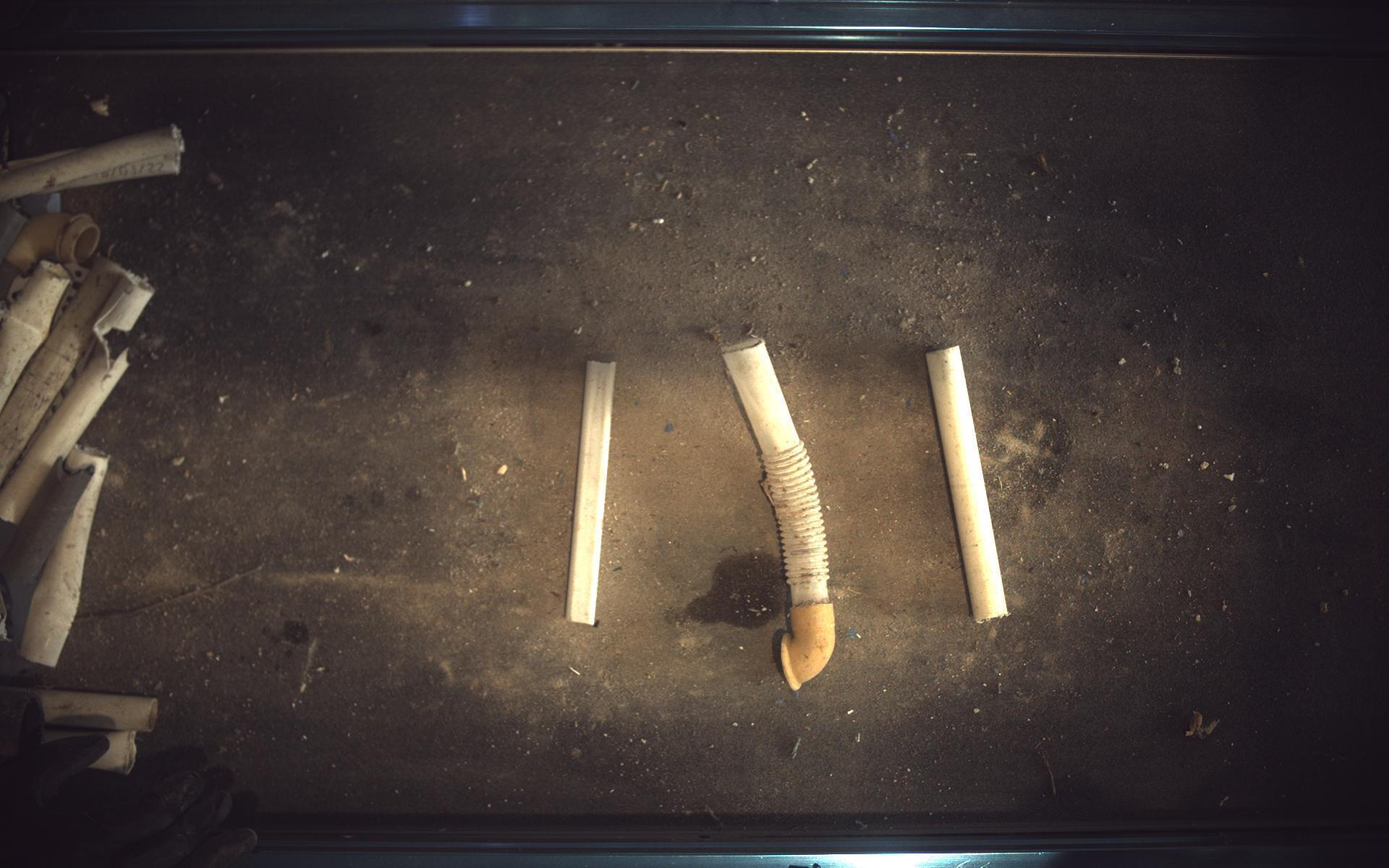pipes: (723, 337, 836, 692), (928, 346, 1010, 622)
plastic: (566, 361, 617, 626)
